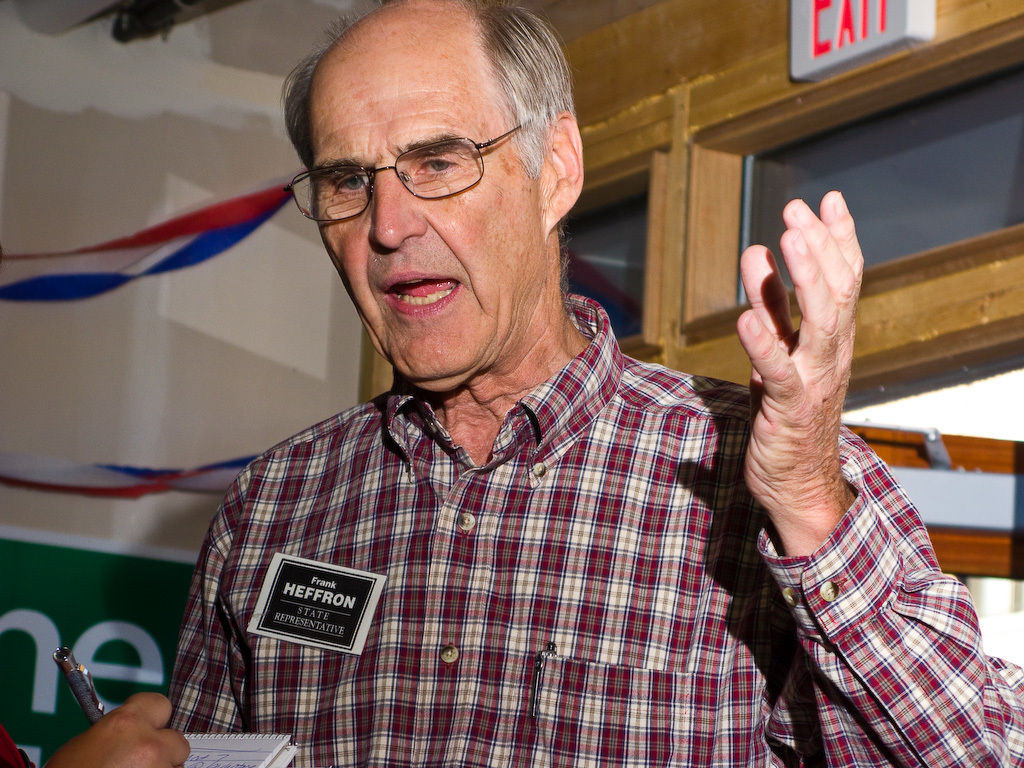Human_hand: (747, 190, 877, 484), (45, 690, 189, 767)
